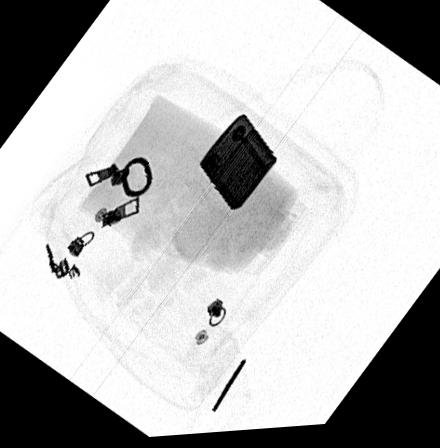Lighter: (199, 116, 279, 214)
